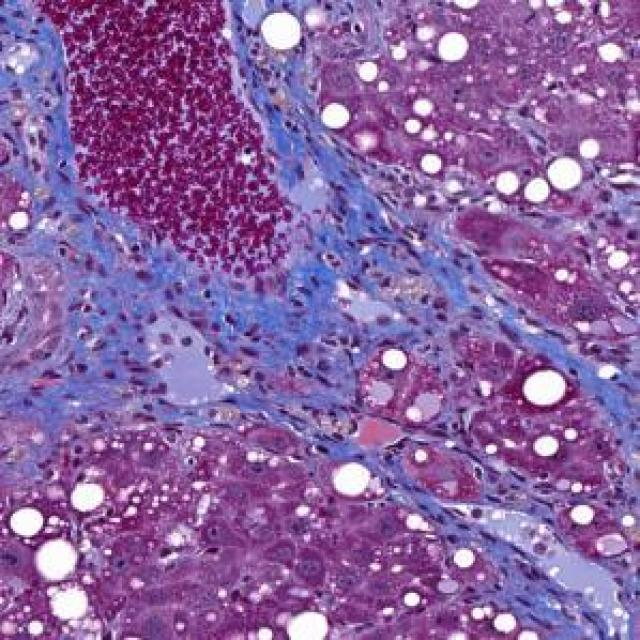fibrosis: (28, 248, 342, 431), (332, 188, 469, 349), (456, 516, 627, 621), (10, 19, 70, 229), (255, 62, 340, 210), (560, 349, 634, 441)
